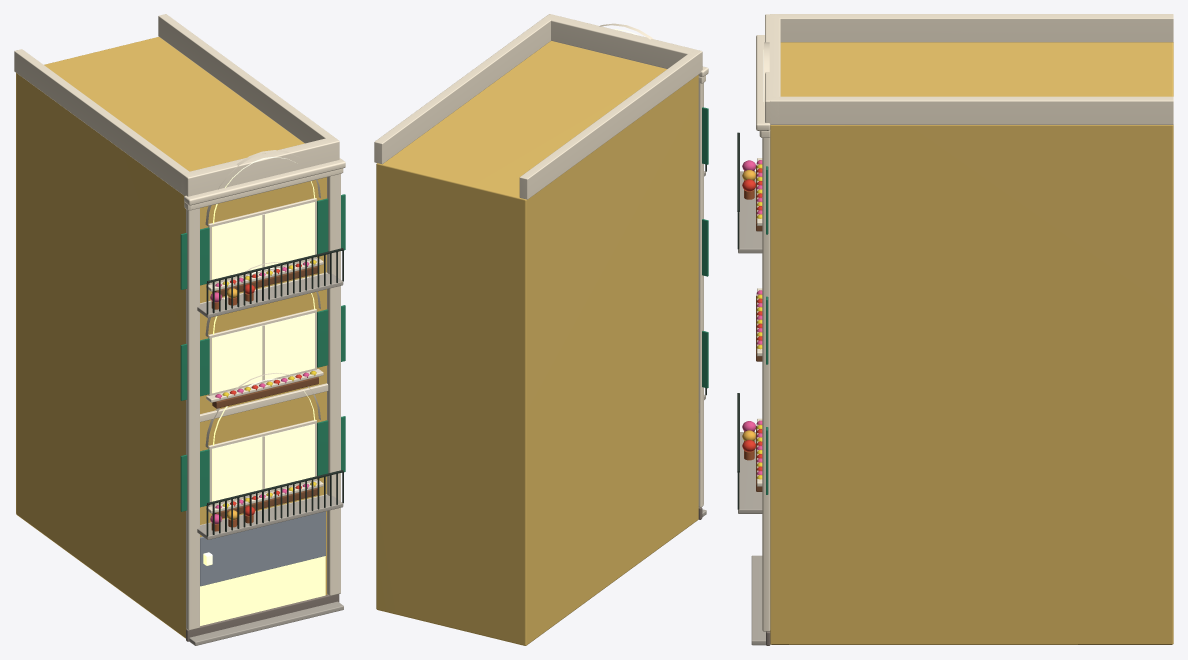
Rendered from house_4f.glb.
The picture shows the model from 3 angles, left to right: view 1: azimuth 30°, elevation 25°; view 2: azimuth 150°, elevation 25°; view 3: azimuth 270°, elevation 25°; orthographic projection. The views are drawn at different scales.
Visible parts, largest first — view 1: Shell, Pil-0.06, W2Glass, Shutter, W1Glass, W3Glass, Pil4.2, Inside, ParapetS, ParapetS2, Parapet, B1Slab (+21 smaller); view 2: Shell, ParapetS, ParapetS2, Parapet, Pil-0.06; view 3: Shell, ParapetS2, ParapetS, Pil4.2, Parapet, B3Slab, B1Slab, Step, Cornice.
Part boxes in pixels (x1,y1,x2,y2): Shell: [16, 37, 327, 638]; Pil-0.06: [186, 208, 199, 630]; W2Glass: [212, 313, 314, 393]; Shutter: [200, 511, 325, 586]; W1Glass: [212, 424, 314, 503]; W3Glass: [212, 202, 314, 281]; Pil4.2: [327, 174, 340, 595]; Inside: [200, 556, 325, 625]; ParapetS: [14, 49, 189, 195]; ParapetS2: [158, 14, 337, 143]; Parapet: [181, 137, 339, 196]; B1Slab: [197, 495, 343, 539]; Shell: [376, 41, 698, 645]; ParapetS: [519, 50, 700, 199]; ParapetS2: [374, 15, 550, 164]; Parapet: [545, 14, 702, 71]; Pil-0.06: [698, 78, 703, 507]; Shell: [770, 42, 1173, 644]; ParapetS2: [770, 96, 1173, 124]; ParapetS: [770, 14, 1173, 42]; Pil4.2: [762, 137, 770, 631]; Parapet: [765, 14, 780, 124]; B3Slab: [738, 171, 762, 253]; B1Slab: [738, 432, 762, 513]; Step: [751, 555, 765, 645]; Cornice: [756, 35, 770, 130].
Bounding box in the file's own units: 4.97 × 13.59 × 9.72.
